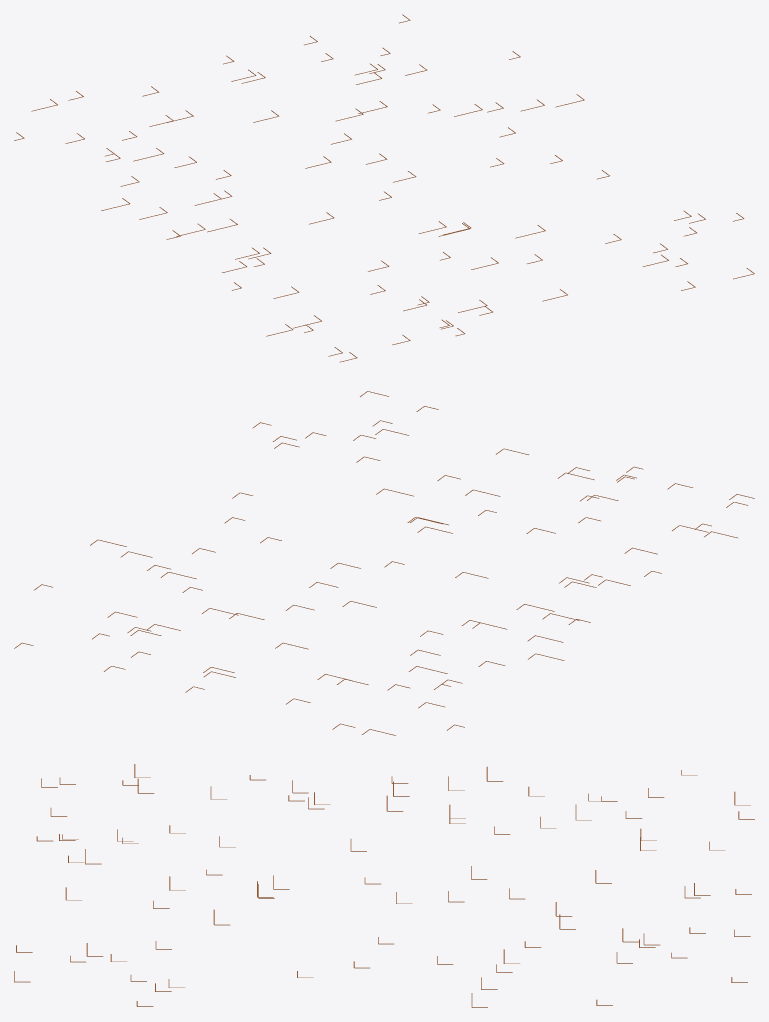
3 views of the same model, one above another, from view 1: azimuth 30°, elevation 25°; view 2: azimuth 150°, elevation 25°; view 3: azimuth 270°, elevation 25° (orthographic). The views are drawn at different scales.
Visible parts, largest first — view 1: LAYER_05__Copper; view 2: LAYER_05__Copper; view 3: LAYER_05__Copper.
Boxes of the visible parts, x1=… form: LAYER_05__Copper: x1=14, y1=14, x2=754, y2=362; LAYER_05__Copper: x1=14, y1=391, x2=754, y2=735; LAYER_05__Copper: x1=14, y1=764, x2=754, y2=1007.
Size of the model in its own units: 214 by 0.09 by 275.
